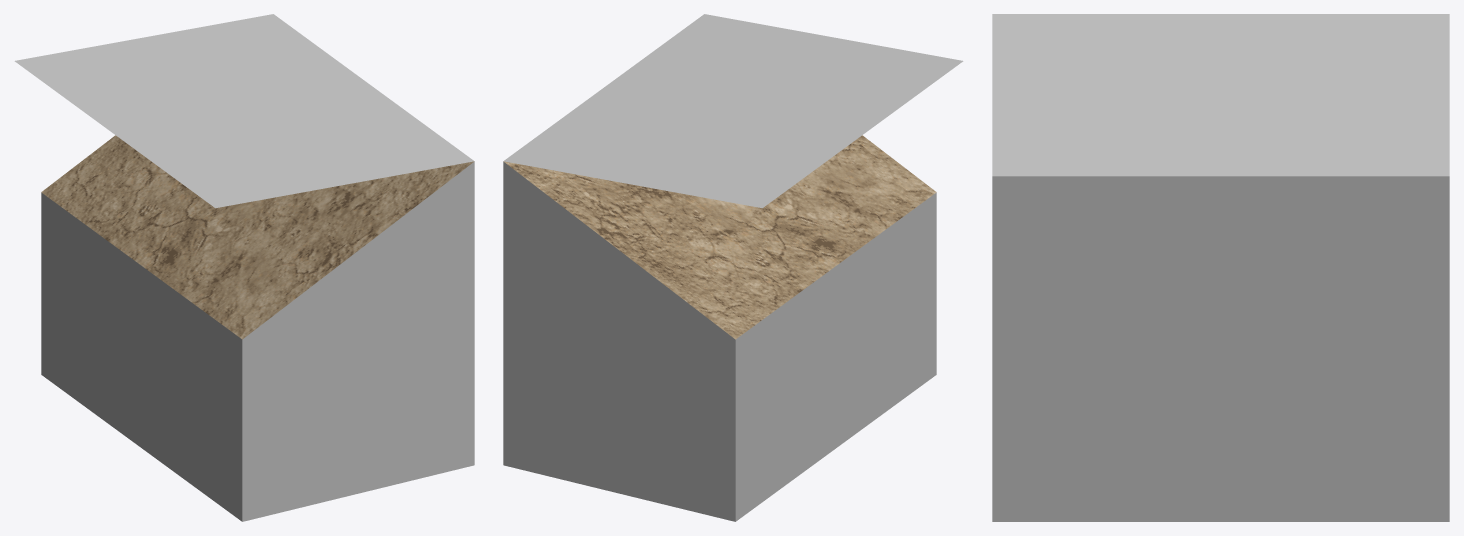
Rendered from detailDumpster_open.fbx.
The picture shows the model from 3 angles, left to right: view 1: azimuth 30°, elevation 25°; view 2: azimuth 150°, elevation 25°; view 3: azimuth 270°, elevation 25°; orthographic projection. The views are drawn at different scales.
Visible parts, largest first — view 1: detailDumpster_open; view 2: detailDumpster_open; view 3: detailDumpster_open.
Boxes of the visible parts, <box> form: detailDumpster_open: <box>14,14,474,521</box>; detailDumpster_open: <box>503,14,963,521</box>; detailDumpster_open: <box>992,14,1449,521</box>.
Size of the model in its own units: 4.46 by 5.27 by 6.
